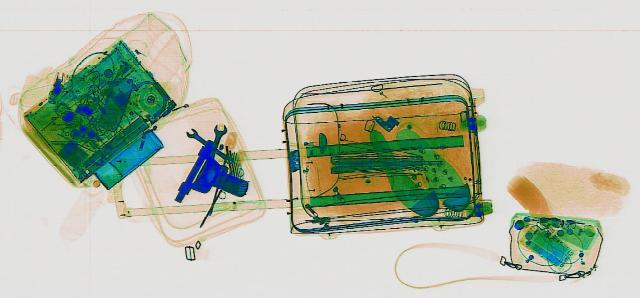Wrench: (178, 127, 240, 163), (198, 123, 230, 163)
